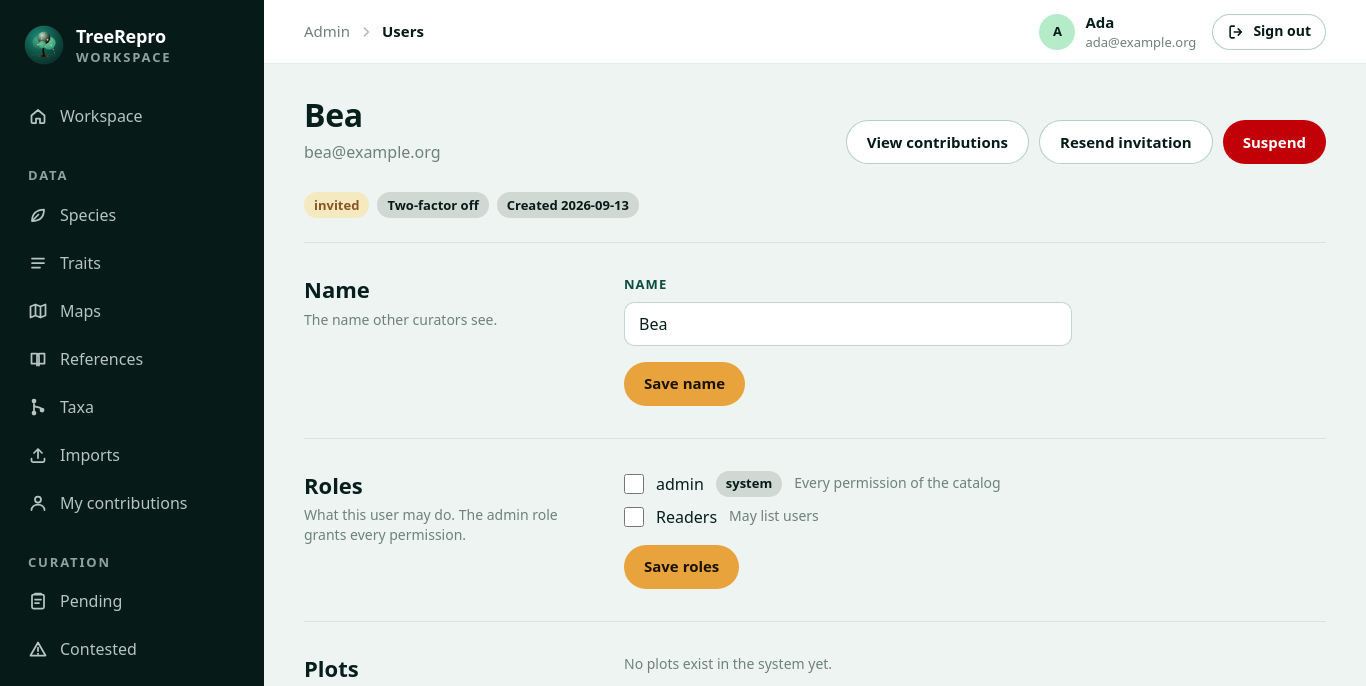
Scenario: RFC-13 R2, RFC-50 R4 UserPage › RFC-50 R5 saves the name and updates the header
The width and height of the screenshot is (1366, 686).
Check: the heading "Bea" is shown, box [304,93,363,136]
Replace the text in the field labelled "Name" with "Beatriz" at (848, 324), box [624,302,1072,346]
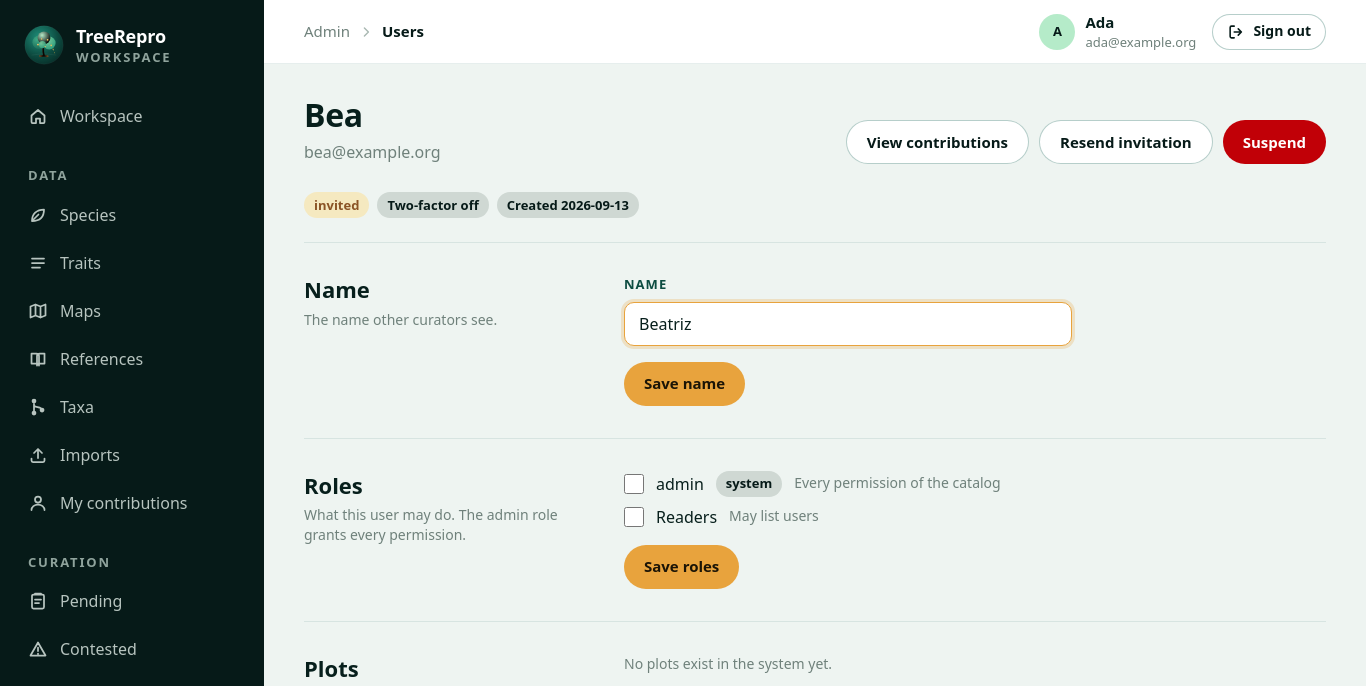
Click the button "Save name" at (685, 384), box [624,362,745,406]
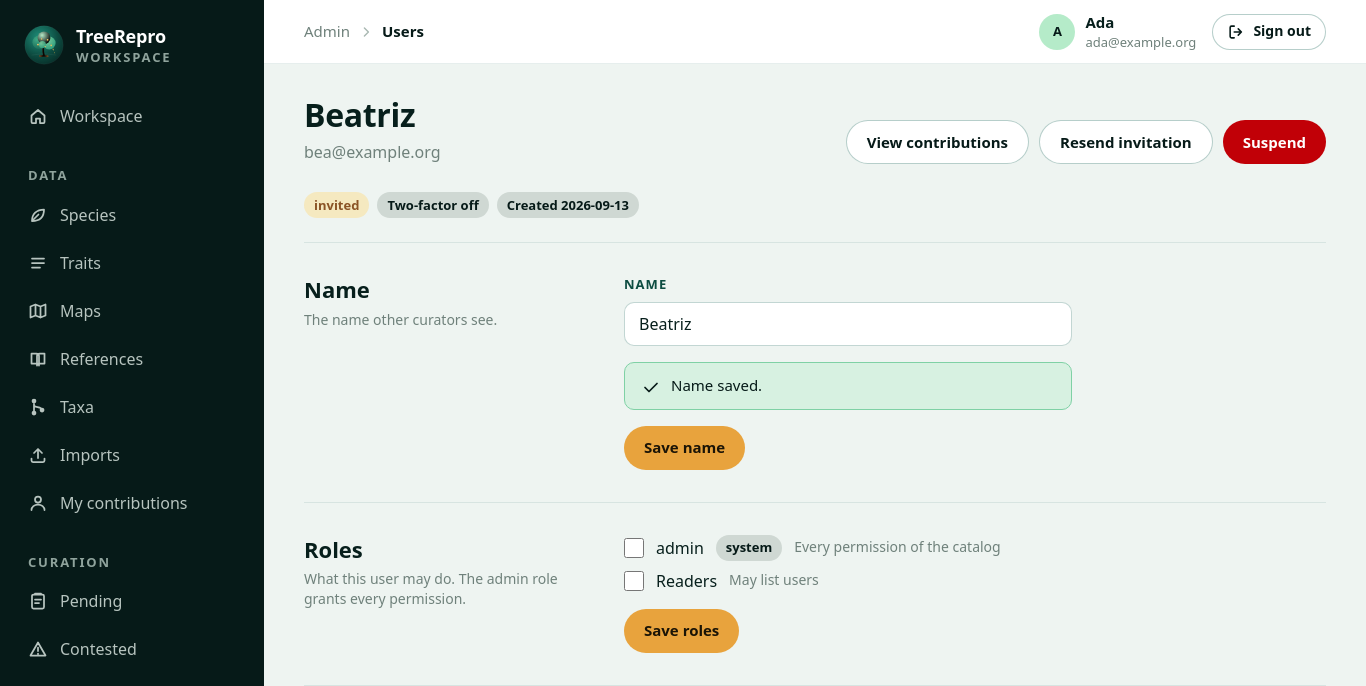
Check: the heading "Beatriz" is shown, box [304,93,415,136]
Check: the message reads "Name saved.", box [671,375,762,395]
